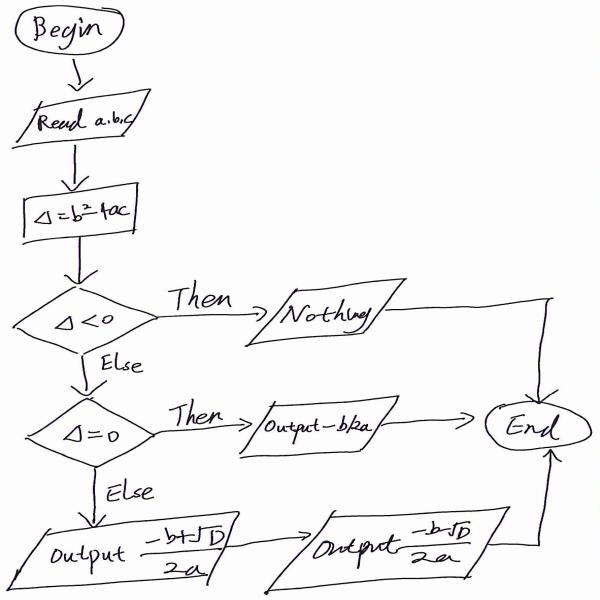arrow: (409, 296, 577, 405), (529, 447, 570, 550), (157, 306, 268, 325), (57, 239, 100, 286), (59, 53, 101, 100), (381, 412, 479, 430), (68, 355, 108, 398), (157, 418, 252, 436), (79, 467, 107, 528), (60, 142, 92, 192), (226, 532, 310, 548)
data: (265, 506, 505, 594), (3, 508, 247, 592), (228, 392, 401, 466), (228, 279, 409, 344), (10, 90, 154, 150)
decision: (10, 285, 157, 359), (27, 397, 157, 468)
terminator: (21, 8, 132, 56)
text: (316, 520, 478, 570), (143, 522, 223, 578), (266, 414, 372, 442), (49, 541, 130, 574), (30, 14, 106, 49), (289, 300, 372, 331), (31, 205, 132, 229), (58, 420, 134, 450), (501, 412, 570, 445), (162, 283, 238, 312), (36, 112, 136, 132), (171, 399, 228, 429), (44, 311, 121, 332), (96, 353, 154, 377)
